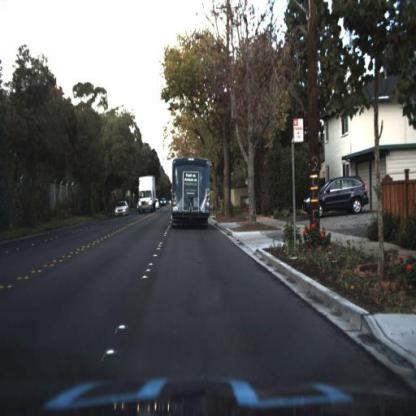car: (304, 170, 372, 218), (137, 174, 158, 218), (114, 199, 130, 220)
truck: (171, 151, 215, 236), (138, 176, 159, 212)
